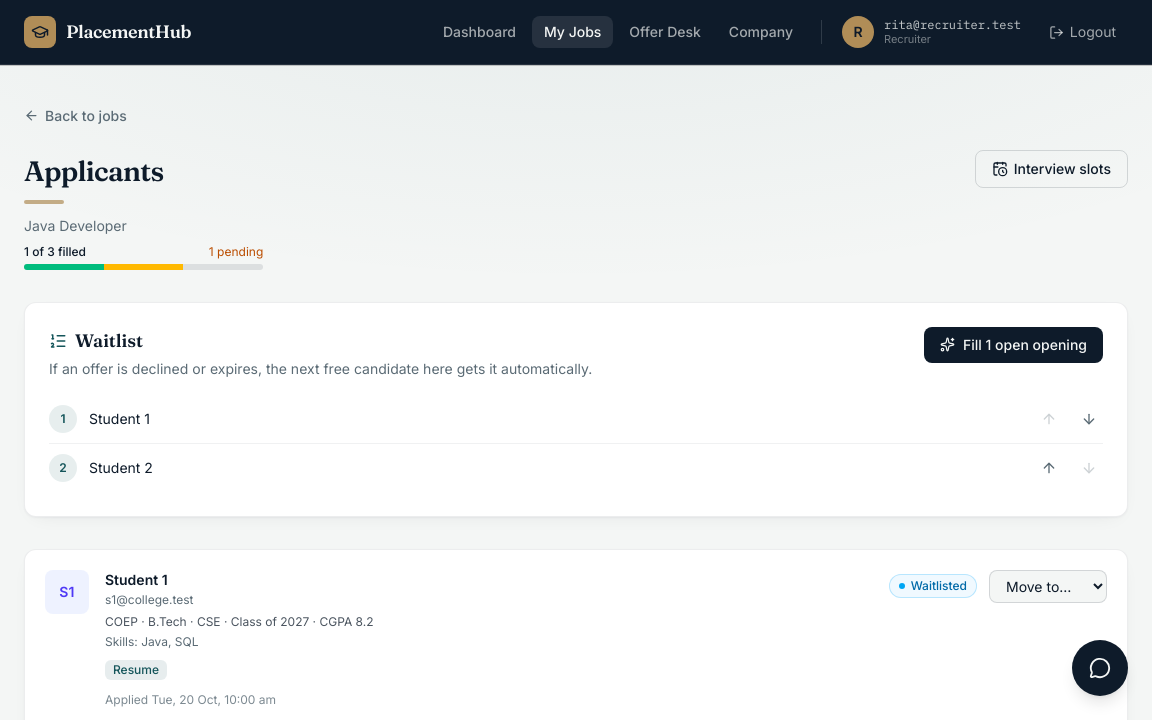
Scenario: Applicants page › waitlist › asks to refresh when the waitlist changed meanwhile
The width and height of the screenshot is (1152, 720).
Click the button named "Move Student 2 up".
click(1049, 468)  # box top-left (1035, 454), bottom-right (1063, 482)
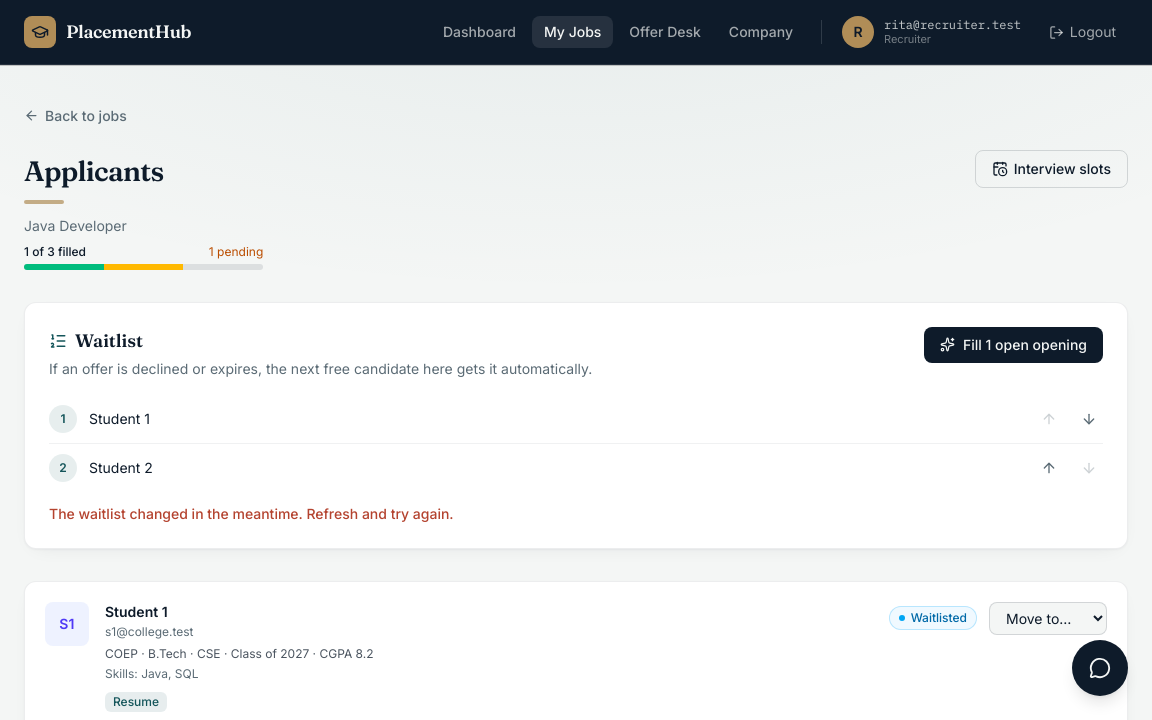
Expected: the message shows "waitlist changed", top-left (49, 504), bottom-right (454, 522)
